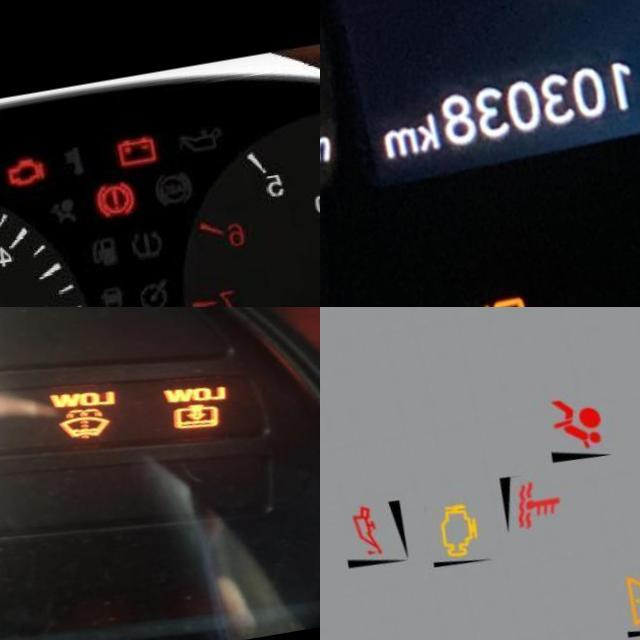Washer Fluid: (43, 412, 96, 452)
